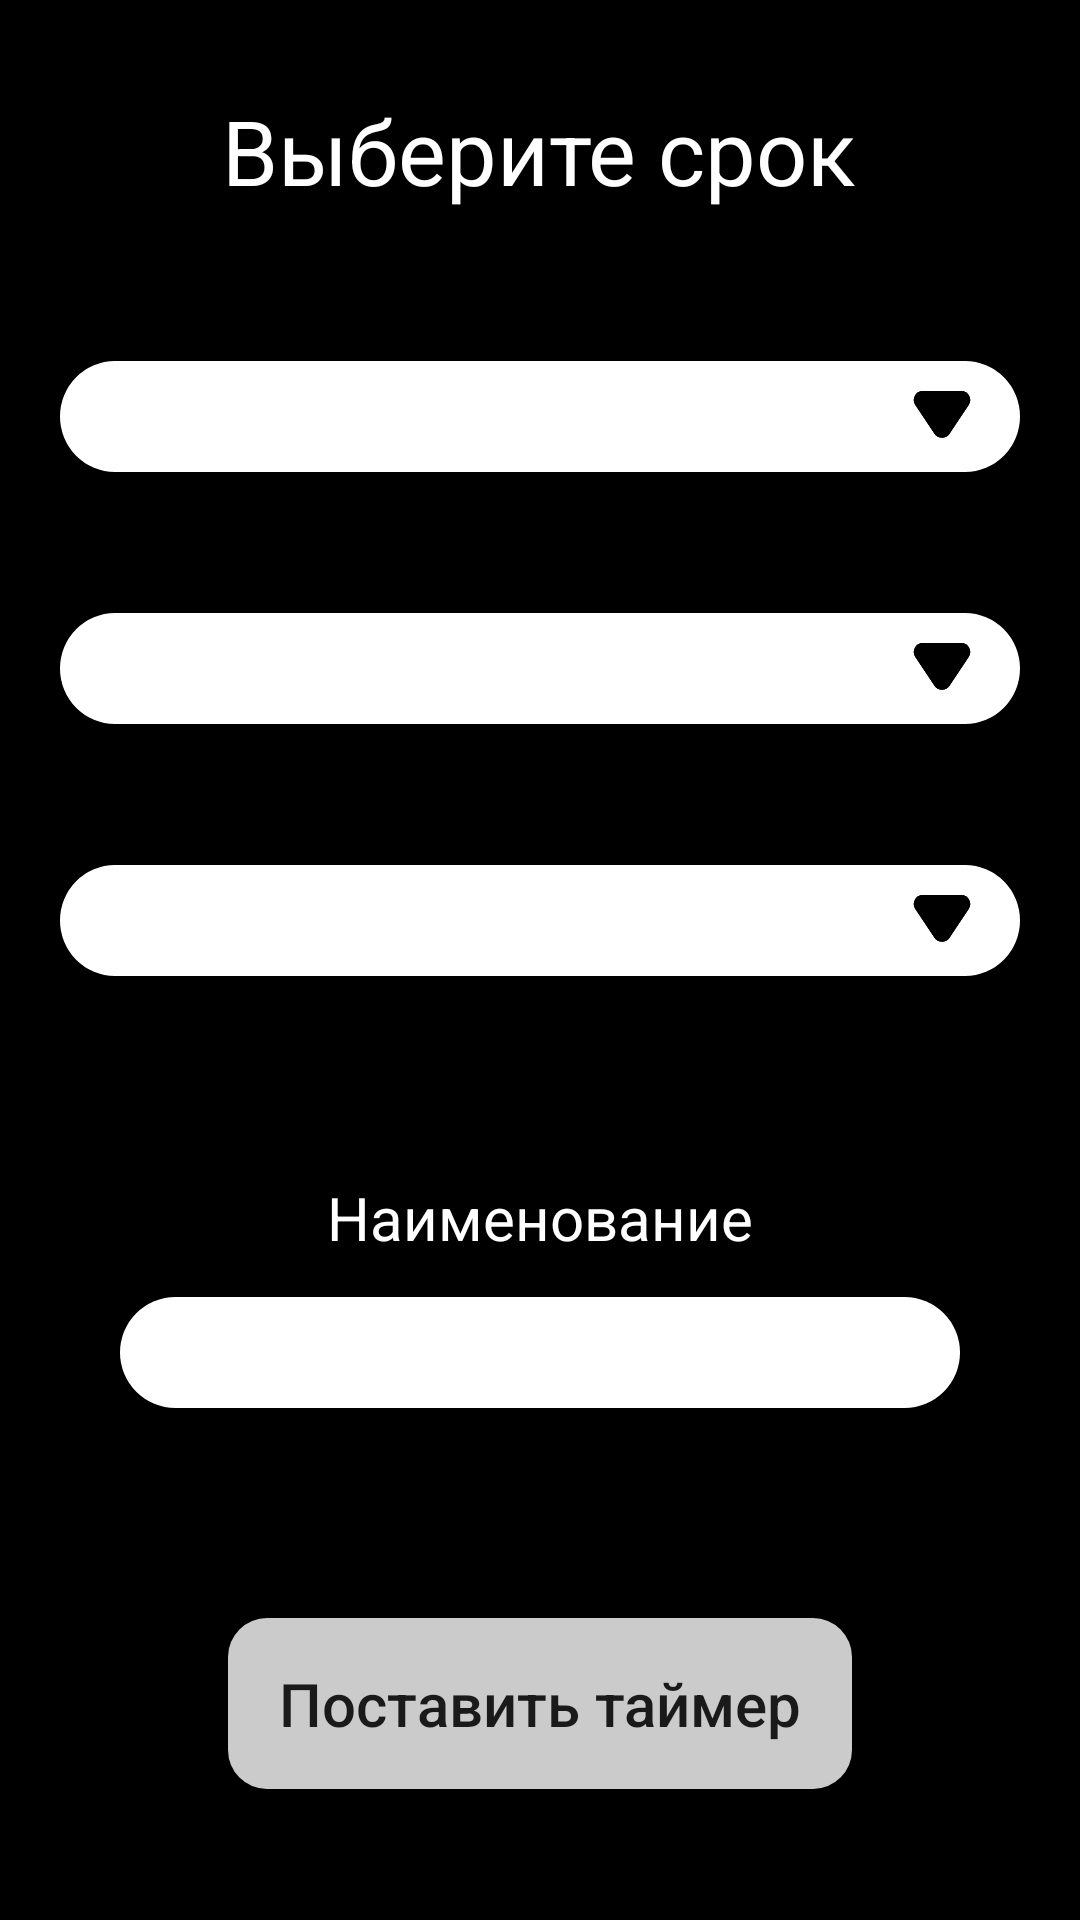

Point at icon controls on the screen. Image size 1080 × 1920, points as (x=x, y=y).
selectorforspinner: (x=942, y=414), (x=942, y=666), (x=942, y=918)
